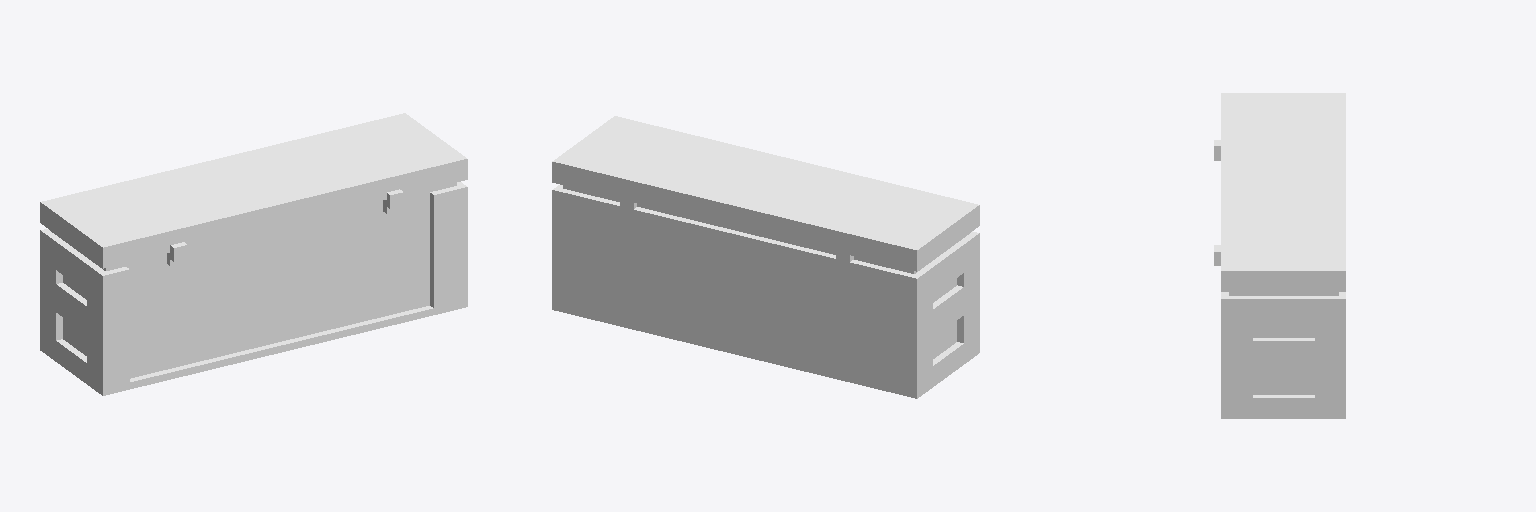
Rendered from rktbx2FA.obj.
3 views of the same model, side by side, from view 1: azimuth 30°, elevation 25°; view 2: azimuth 150°, elevation 25°; view 3: azimuth 270°, elevation 25° (orthographic).
Visible parts, largest first — view 1: object 1; view 2: object 1; view 3: object 1.
Part boxes in pixels (left/top/right/bottom): object 1: left=40, top=113, right=467, bottom=395; object 1: left=552, top=116, right=979, bottom=398; object 1: left=1214, top=93, right=1345, bottom=418.
Size of the model in its own units: 5.4 by 2.1 by 1.7.